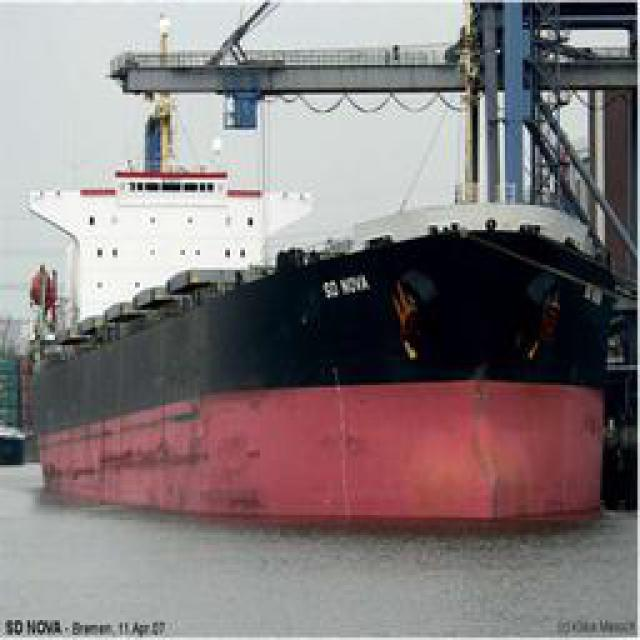Ship: (23, 31, 640, 544)
